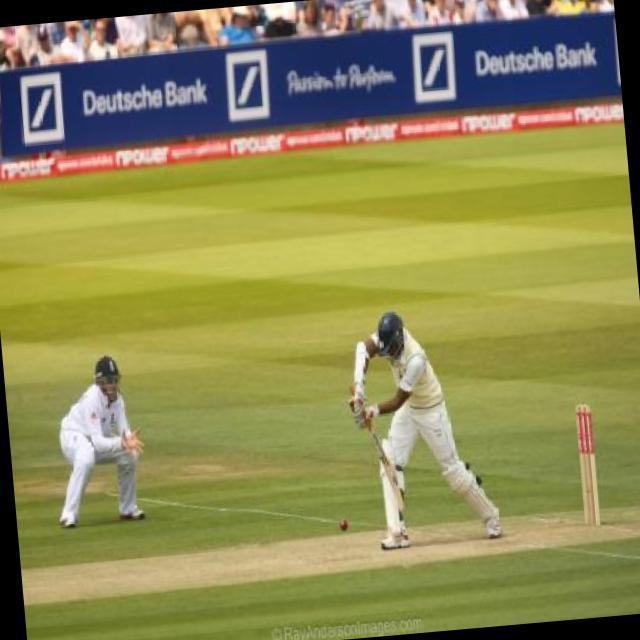-: (331, 505, 360, 544)
